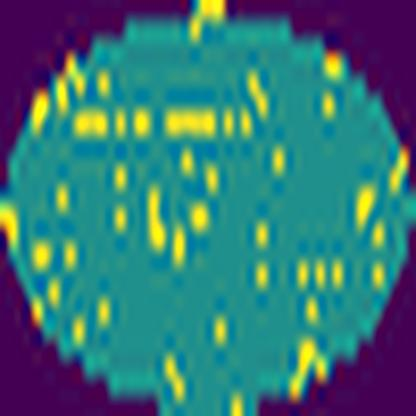Scratch: (69, 106, 264, 140)
